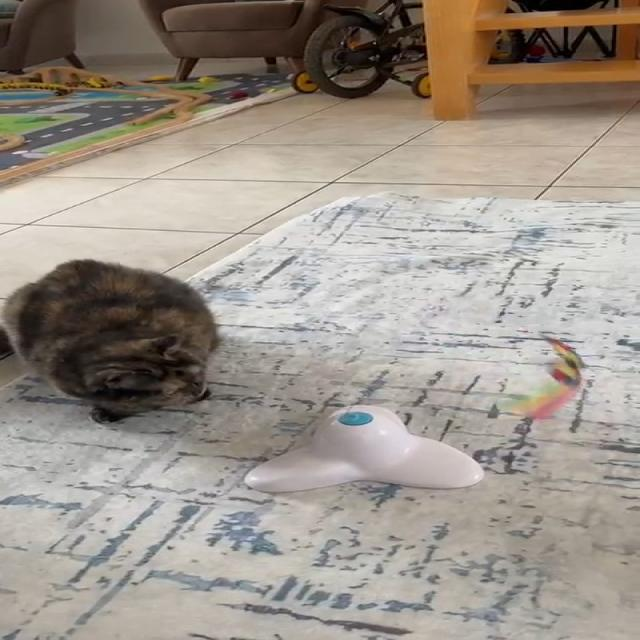authorized: (0, 258, 220, 424)
